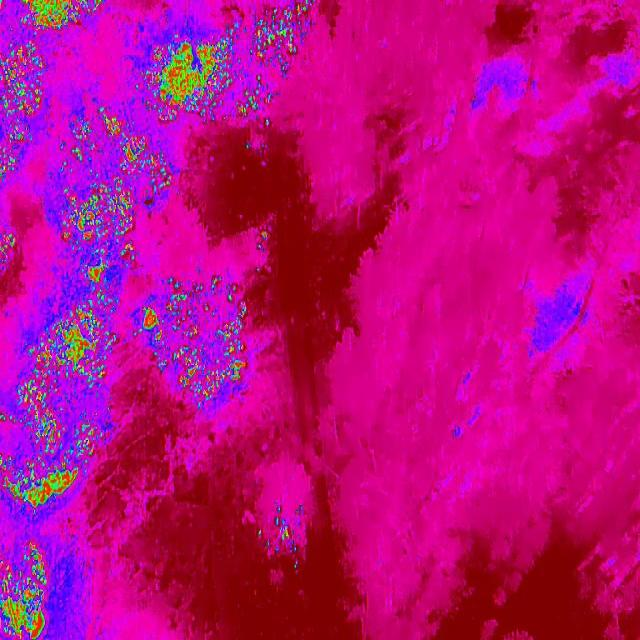fire: (133, 278, 249, 414), (136, 26, 247, 126), (62, 104, 182, 194), (18, 300, 114, 394), (61, 188, 133, 302), (245, 0, 313, 112), (0, 392, 106, 460), (0, 44, 45, 186), (0, 458, 92, 518), (0, 542, 51, 638), (0, 0, 107, 35), (258, 511, 303, 571), (0, 226, 18, 270), (254, 224, 270, 254)
